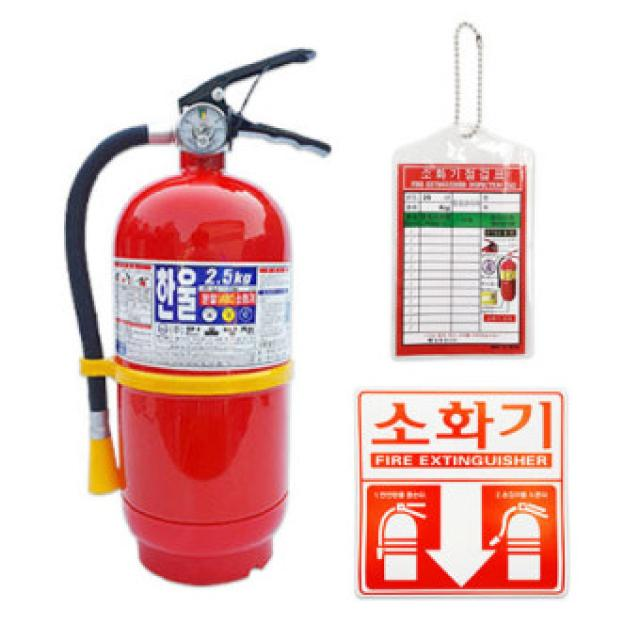pressure gauge: (177, 104, 227, 154)
